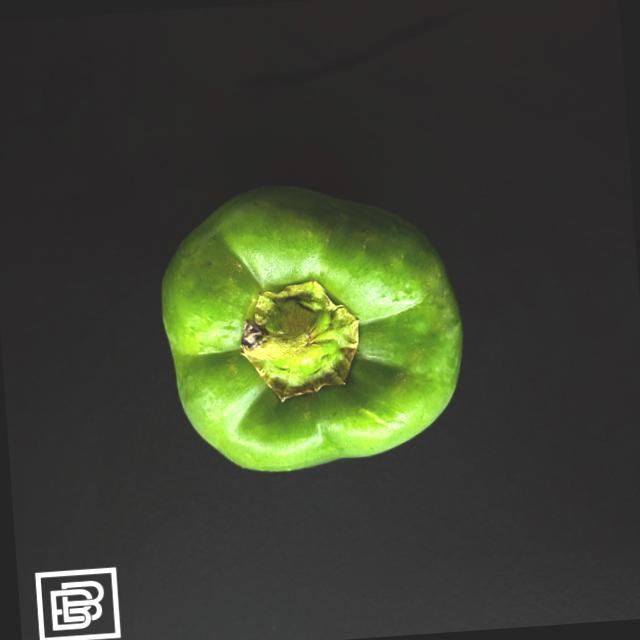Capsicum: (160, 188, 465, 470)
